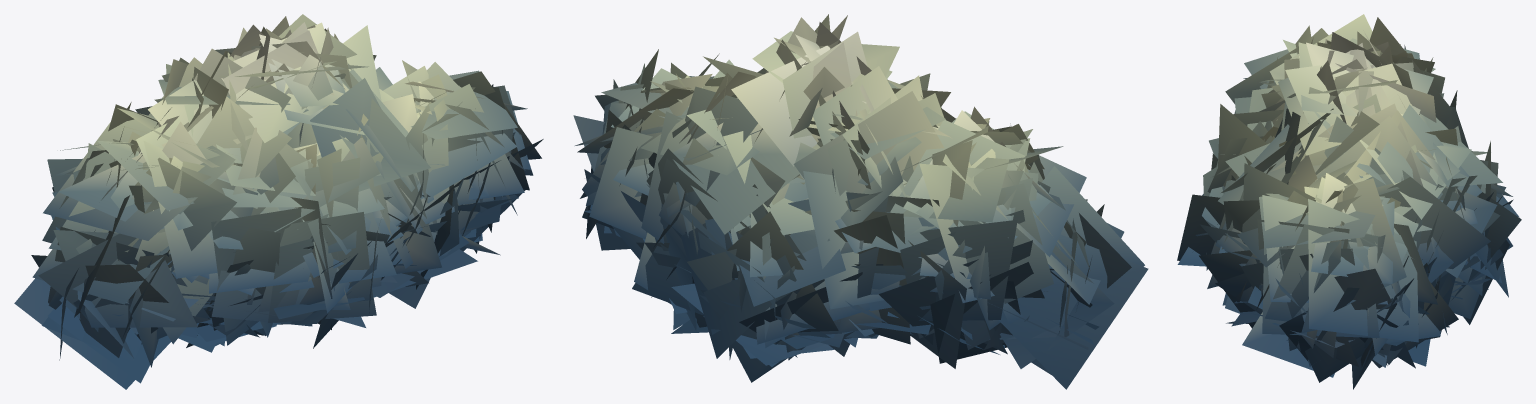
Rendered from cloud test.FBX.
3 renders of one model, left to right at view 1: azimuth 30°, elevation 25°; view 2: azimuth 150°, elevation 25°; view 3: azimuth 270°, elevation 25°, orthographic. The views are drawn at different scales.
Visible parts, largest first — view 1: Plane001; view 2: Plane001; view 3: Plane001.
Boxes of the visible parts, <box> form: Plane001: <box>14,14,543,389</box>; Plane001: <box>573,14,1148,389</box>; Plane001: <box>1177,14,1521,389</box>.
Bounding box in the file's own units: 9.97 × 5.59 × 6.02.
